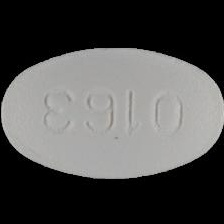55111-163: (0, 0, 224, 224)
